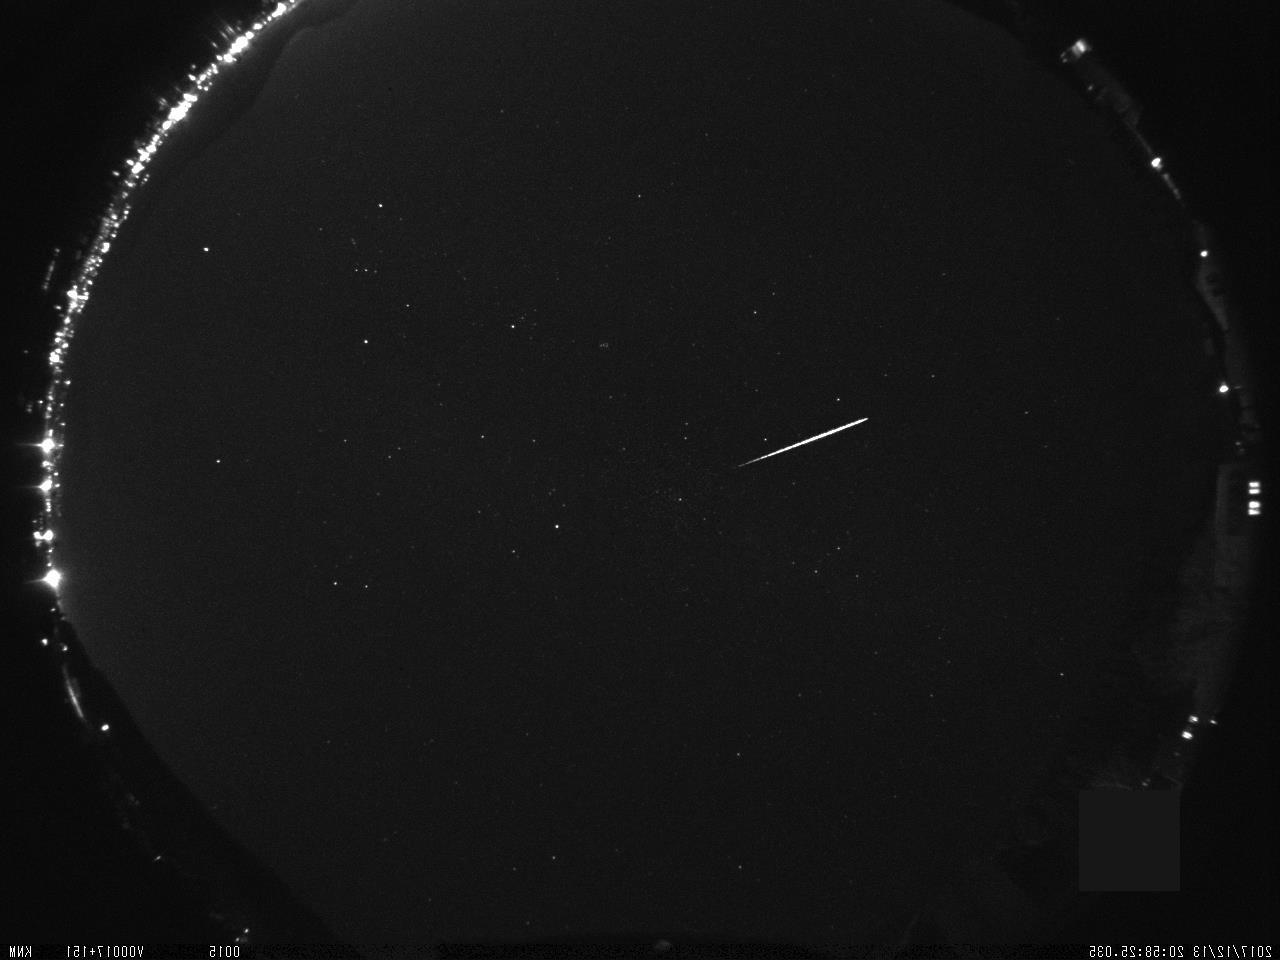meteor: (703, 406, 883, 483)
